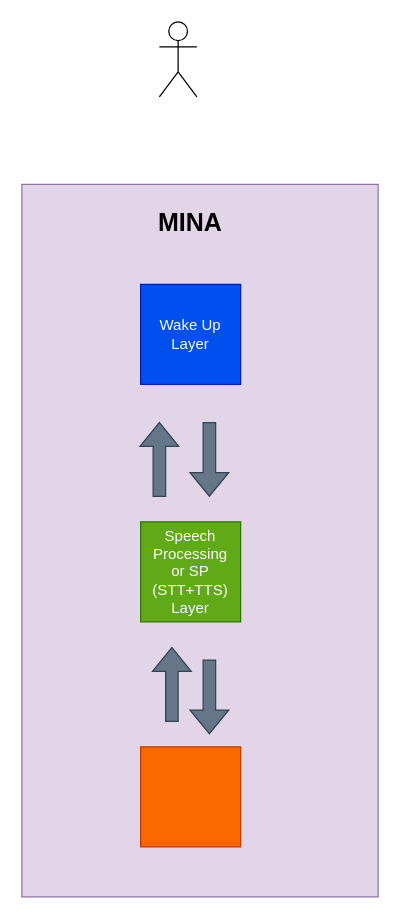
The diagram is 400 pixels wide and 919 high, and some of its shapes have lost their labels. Each missing label, with the centre of its shape:
Core AI Layer: the point at 190,796
End User: the point at 177,59
